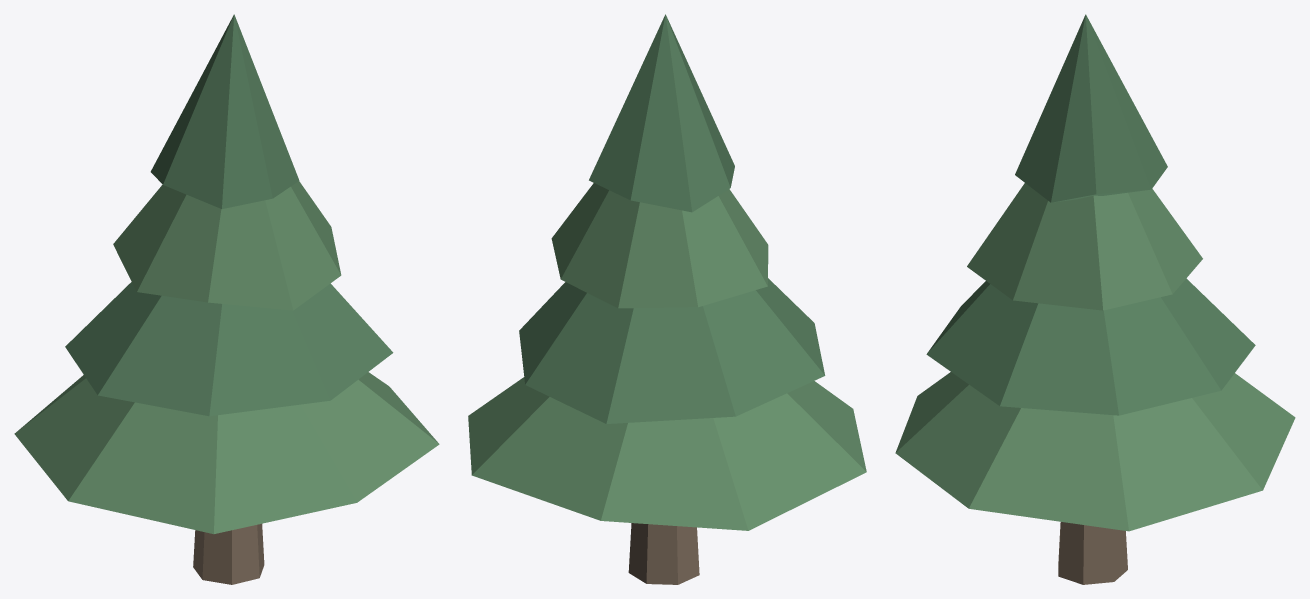
The model's file is PineShort.glb.
3 renders of one model, left to right at view 1: azimuth 30°, elevation 25°; view 2: azimuth 150°, elevation 25°; view 3: azimuth 270°, elevation 25°, orthographic.
Visible parts, largest first — view 1: PineShort; view 2: PineShort; view 3: PineShort.
Part boxes in pixels (x1,y1,x2,y2): PineShort: (14,14,439,584); PineShort: (468,14,866,584); PineShort: (895,14,1295,584).
Size of the model in its own units: 7.96 by 11.73 by 7.64.
